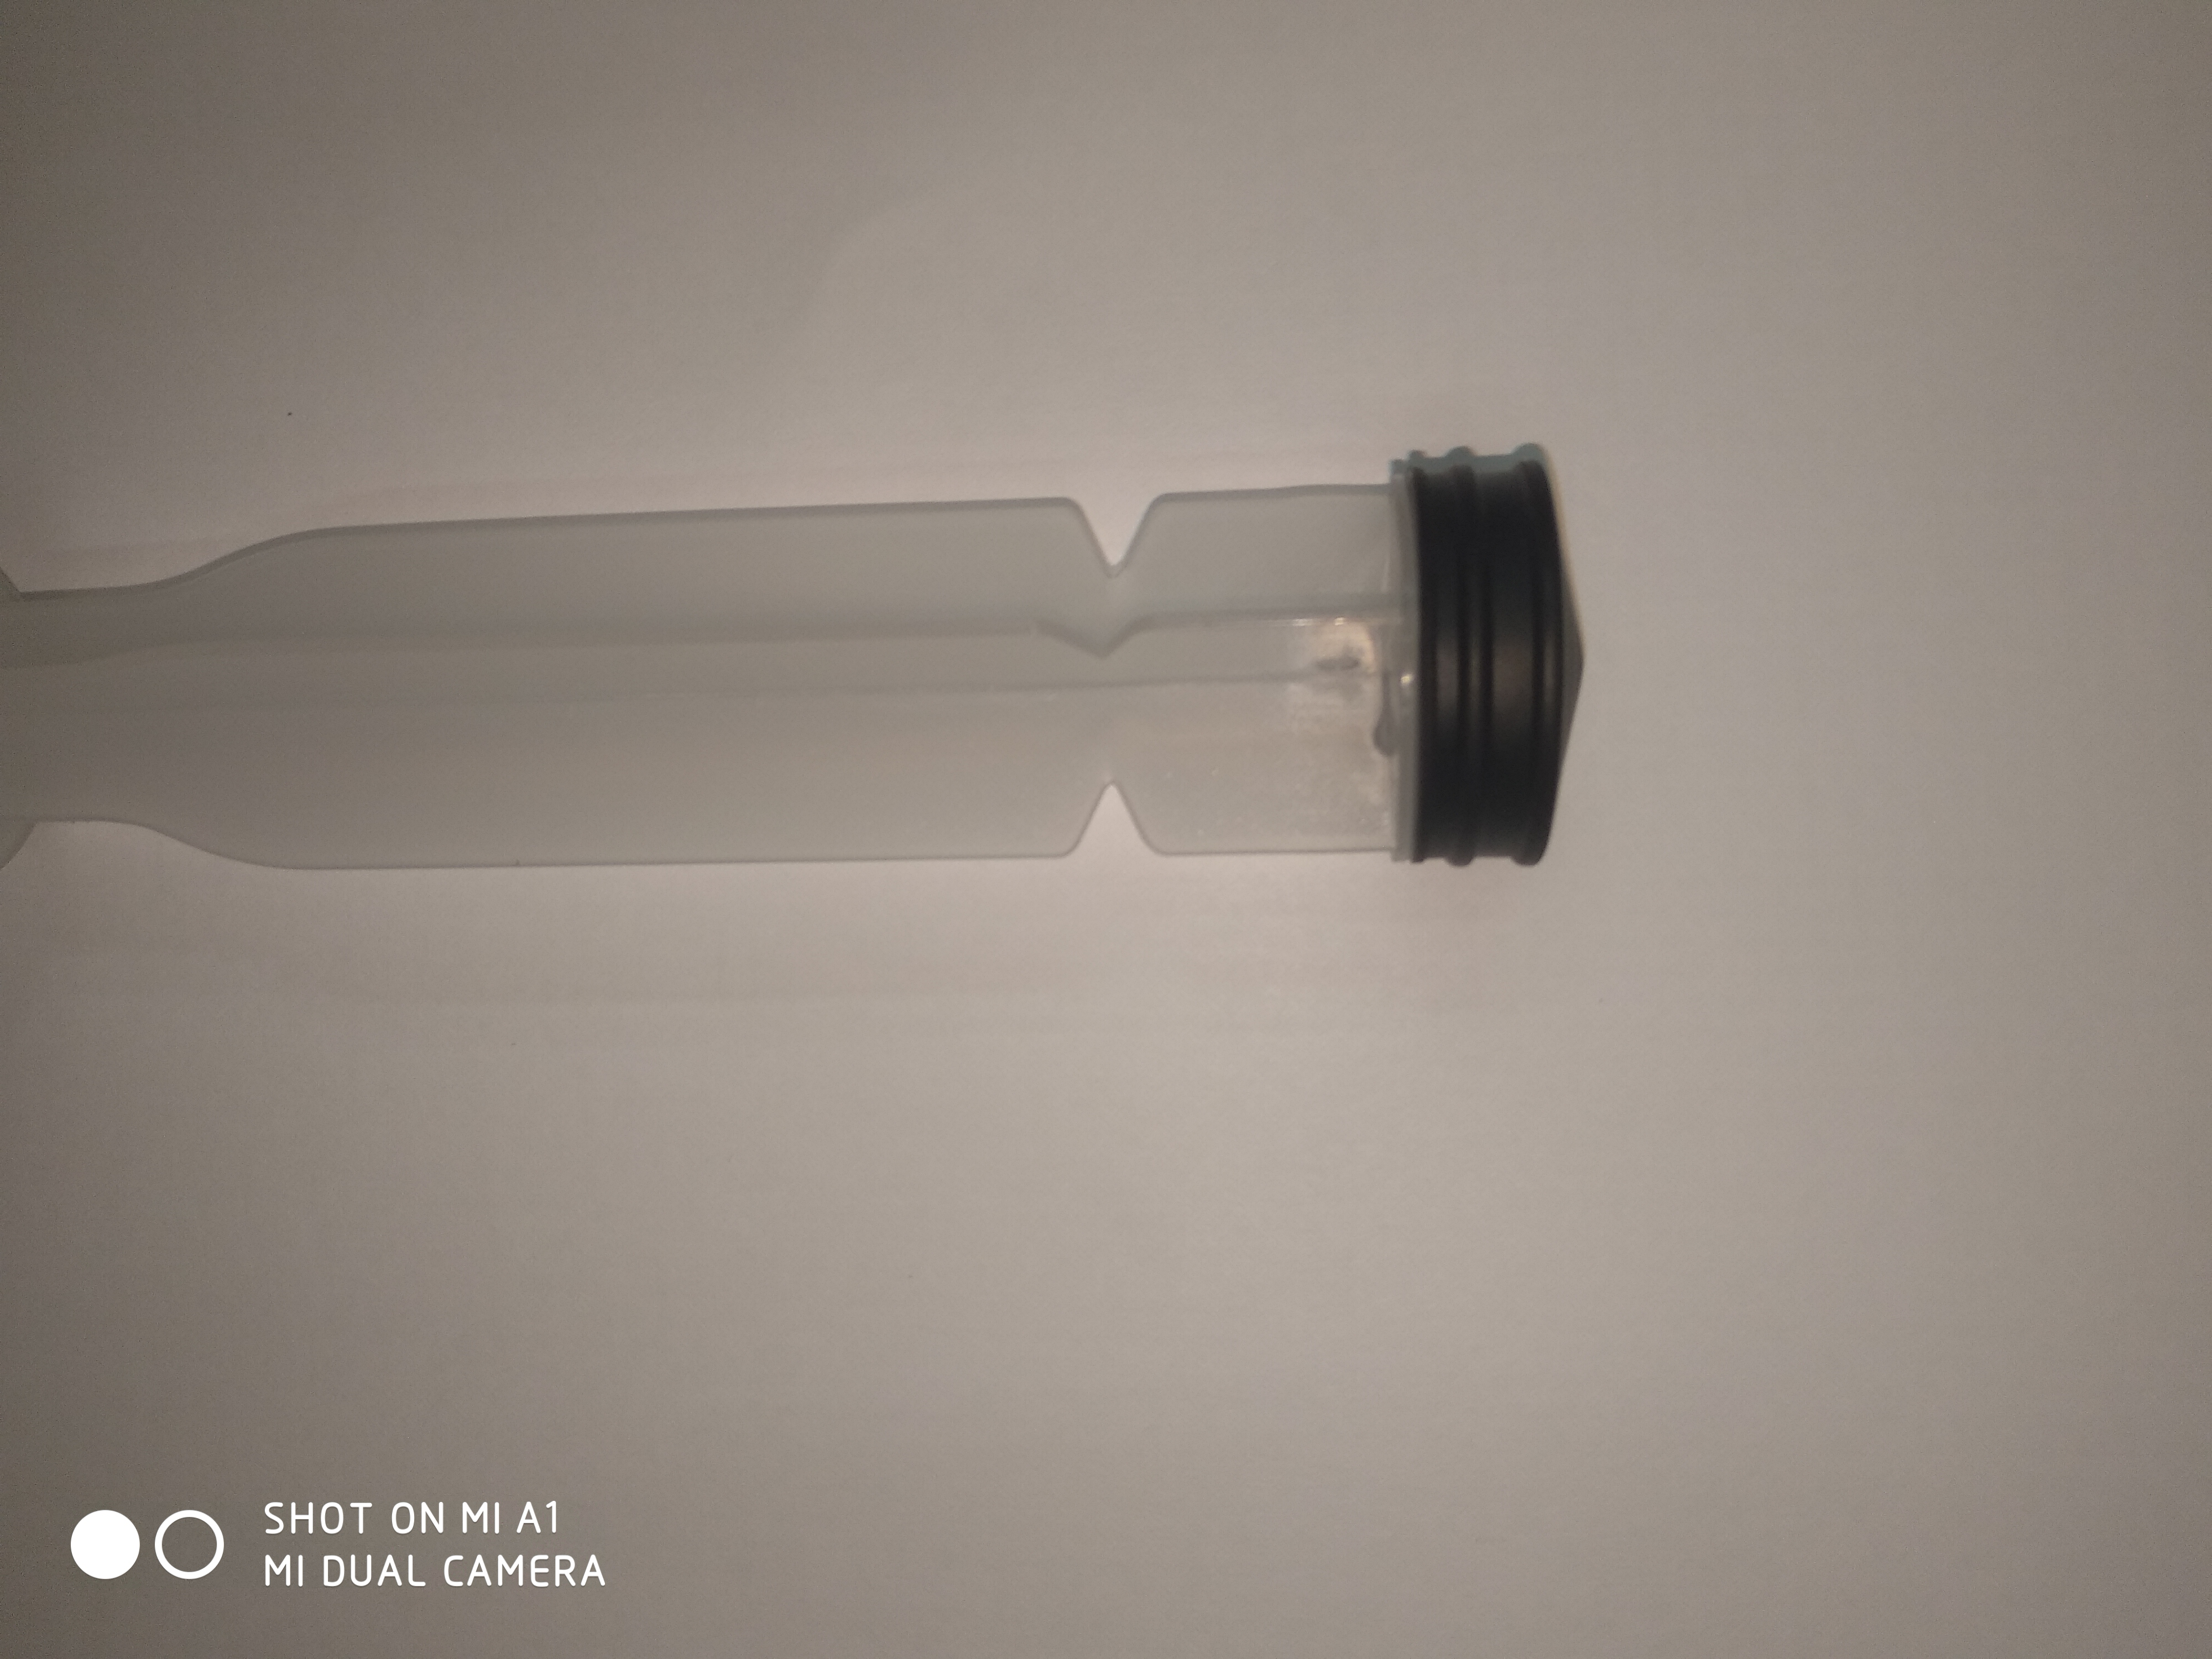plunger: (0, 469, 1595, 877)
